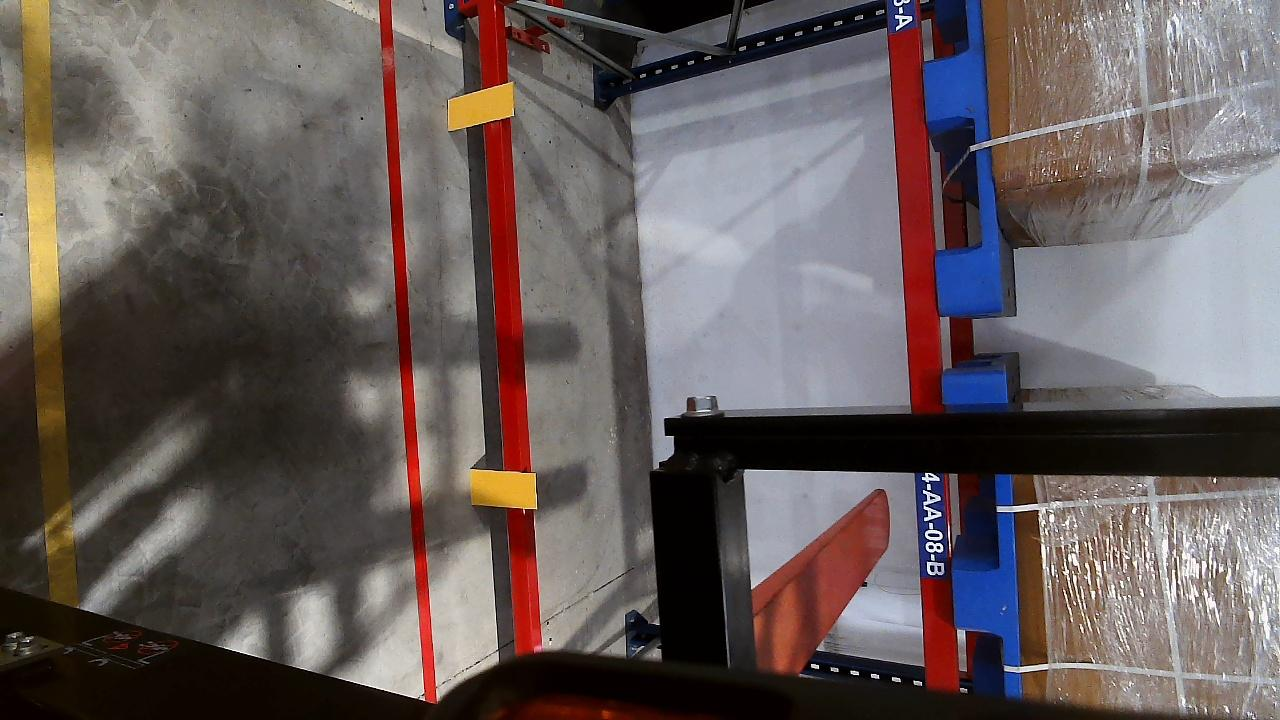h_rack: (471, 15, 540, 653), (882, 0, 954, 605)
orange_strip: (447, 83, 514, 129), (470, 469, 536, 509)
red_line: (381, 0, 431, 664)
small_pallet: (917, 1, 1007, 309), (944, 477, 1028, 695)
yellow_line: (17, 0, 75, 602)
